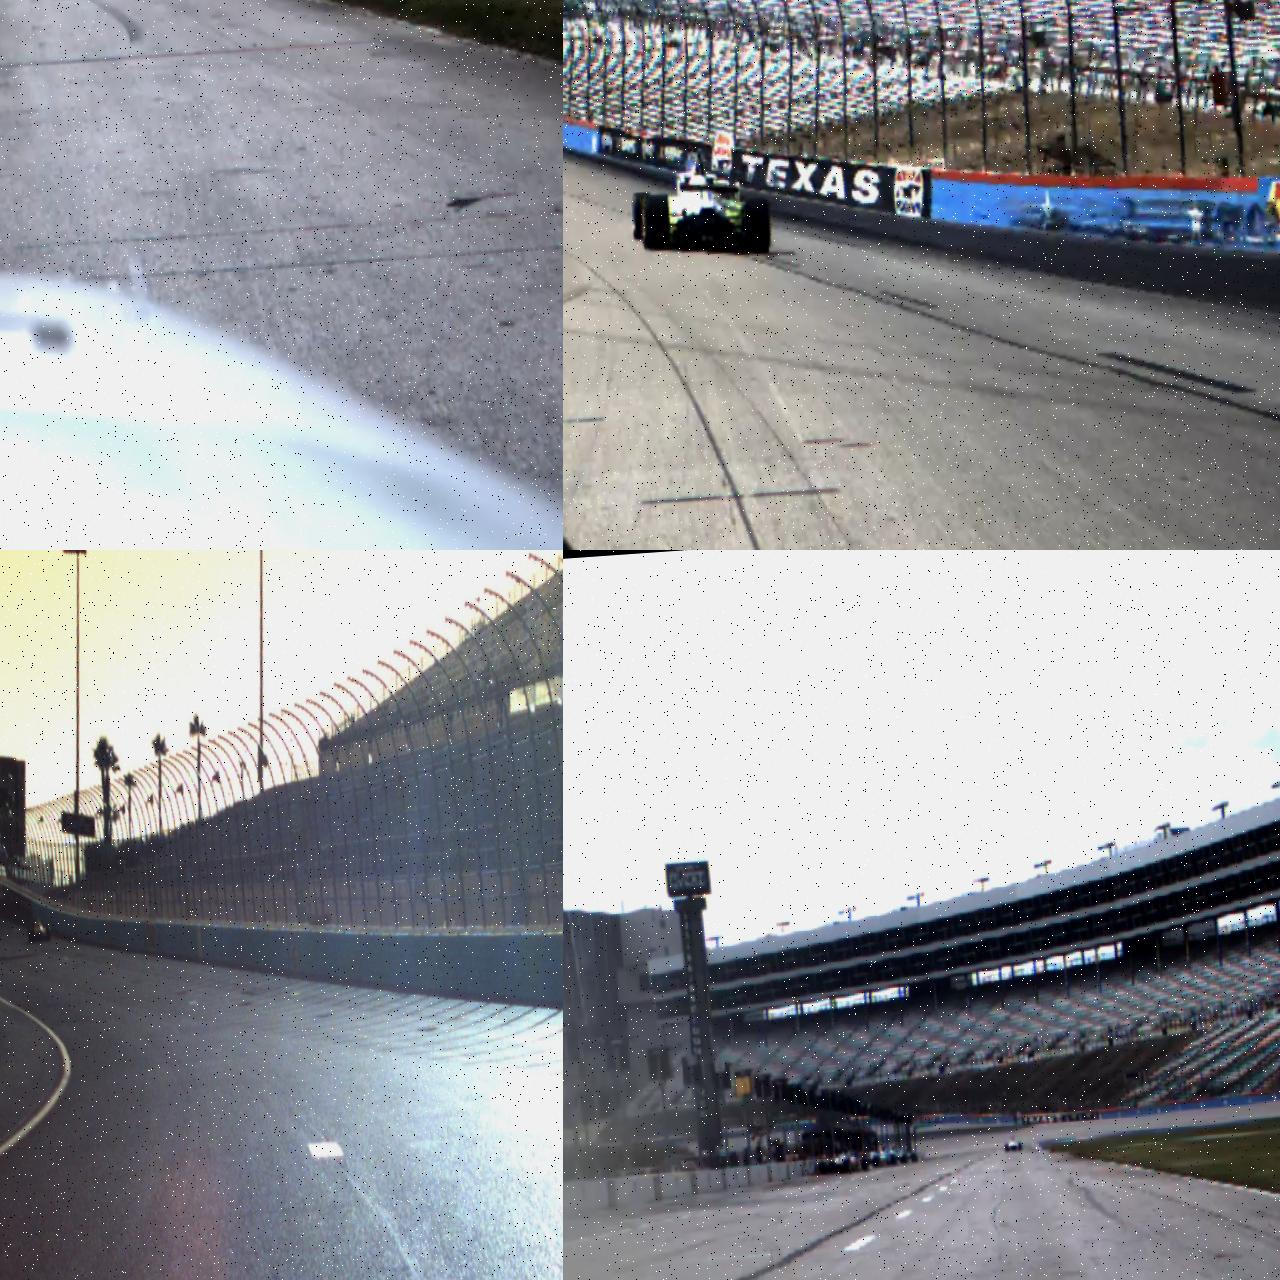AV: (628, 136, 772, 261), (27, 914, 52, 942), (1005, 1135, 1022, 1152)
Wheel: (641, 195, 673, 252), (743, 198, 771, 253), (632, 192, 654, 241), (843, 1157, 852, 1173), (862, 1156, 869, 1171), (818, 1162, 826, 1175), (872, 1155, 879, 1169), (46, 926, 52, 941), (30, 927, 36, 942), (890, 1155, 897, 1165), (900, 1153, 907, 1164), (911, 1153, 917, 1163), (28, 927, 32, 941), (1005, 1143, 1009, 1151), (1019, 1143, 1022, 1151)
